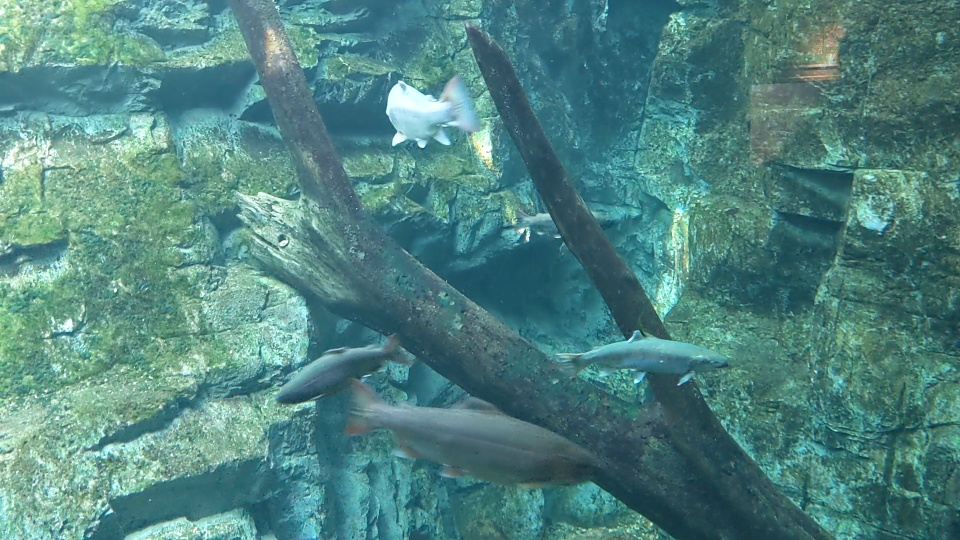Fish: (348, 383, 617, 500), (554, 325, 730, 384), (273, 338, 413, 406), (379, 71, 481, 150), (511, 205, 564, 241)
